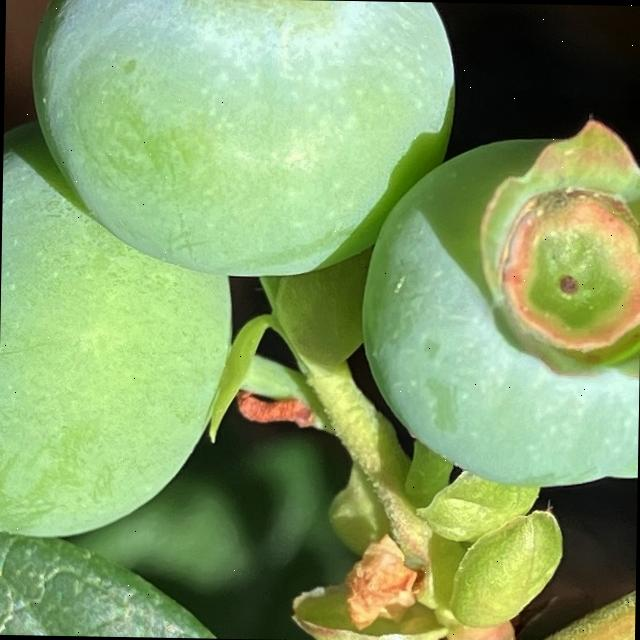Blueberries: (28, 0, 461, 287), (0, 128, 246, 548)
